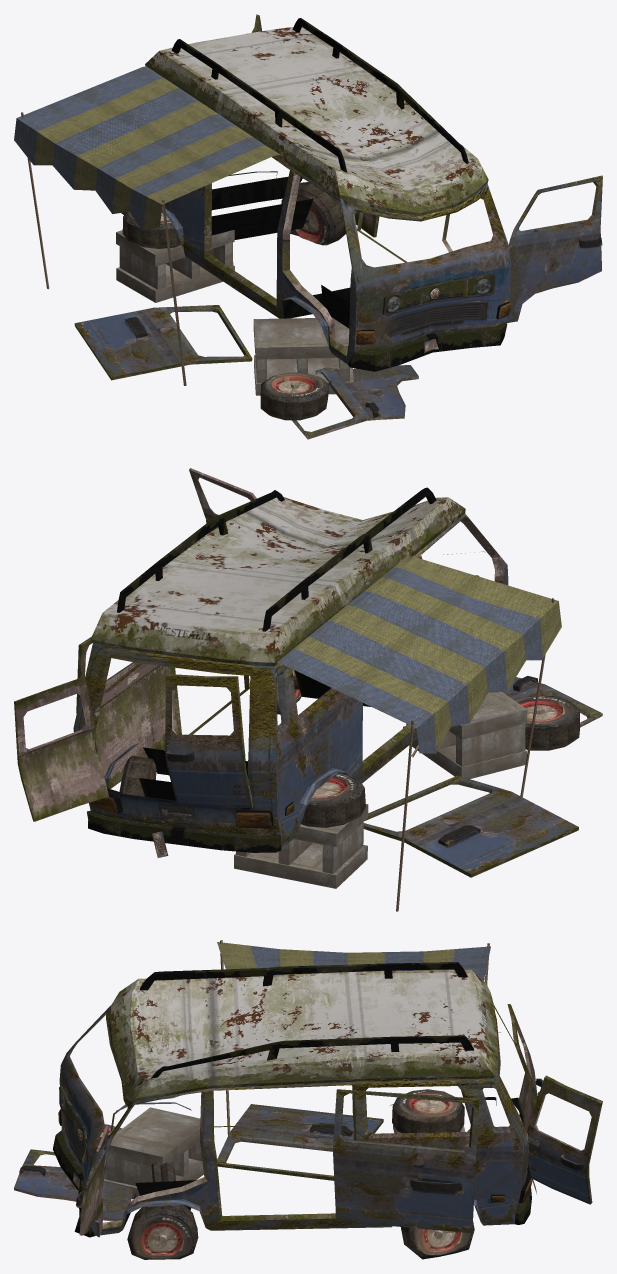
The model's file is van_crushed.glb.
The picture shows the model from 3 angles, top to bottom: view 1: azimuth 30°, elevation 25°; view 2: azimuth 150°, elevation 25°; view 3: azimuth 270°, elevation 25°; orthographic projection. The views are drawn at different scales.
Visible parts, largest first — view 1: polySurface4178_T_Van2_0; view 2: polySurface4178_T_Van2_0; view 3: polySurface4178_T_Van2_0.
Part boxes in pixels (x1=…): polySurface4178_T_Van2_0: x1=14, y1=14, x2=602, y2=439; polySurface4178_T_Van2_0: x1=14, y1=468, x2=602, y2=911; polySurface4178_T_Van2_0: x1=14, y1=940, x2=602, y2=1259.
Size of the model in its own units: 0.2287 by 0.1252 by 0.2763.
1 material, 1 textured.
